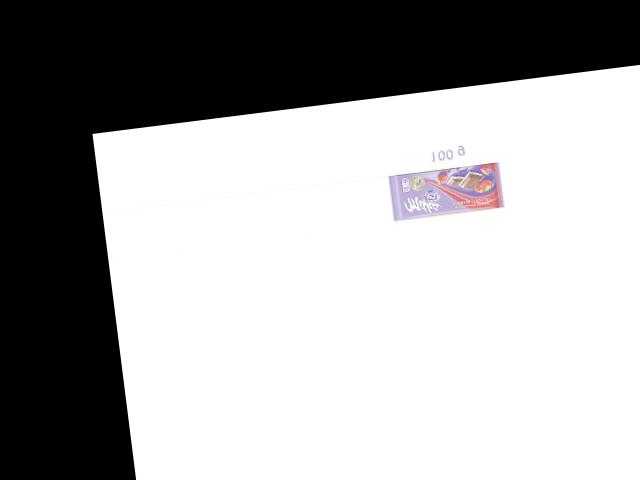chocolate: (388, 156, 505, 221)
